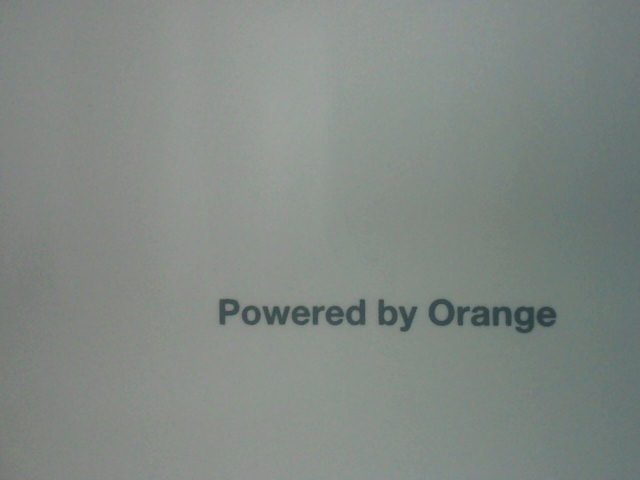AS_PowerByOrange: (207, 286, 567, 338)
